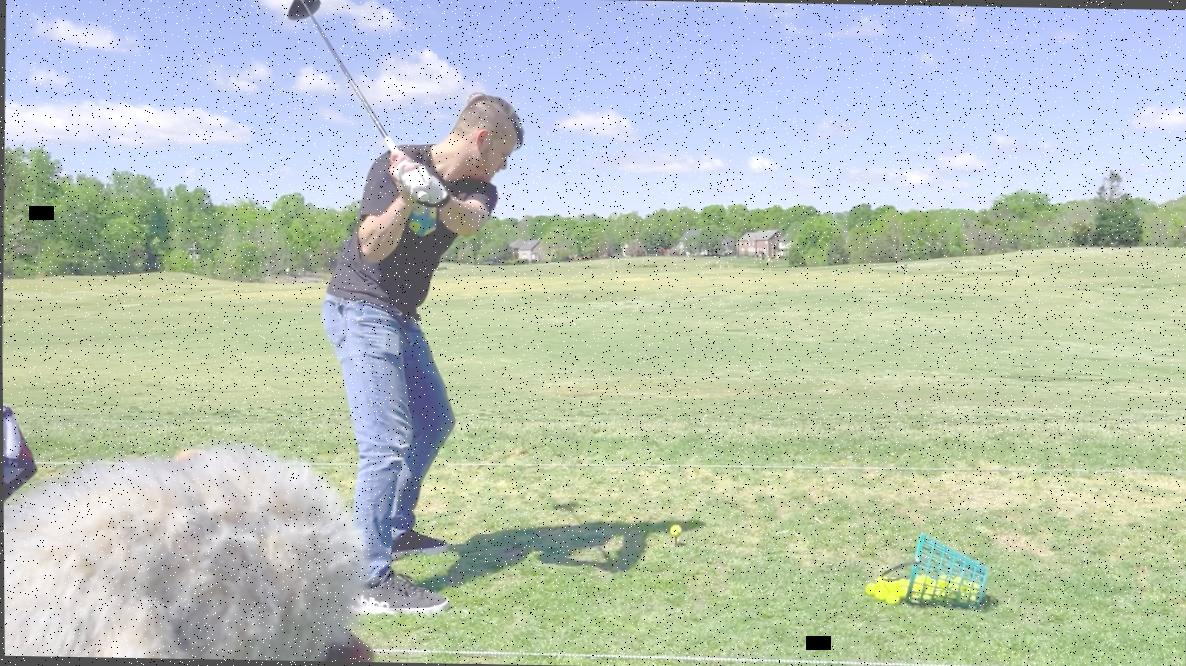ClubHead: (279, 0, 328, 40)
GolfBall: (666, 522, 682, 540)
